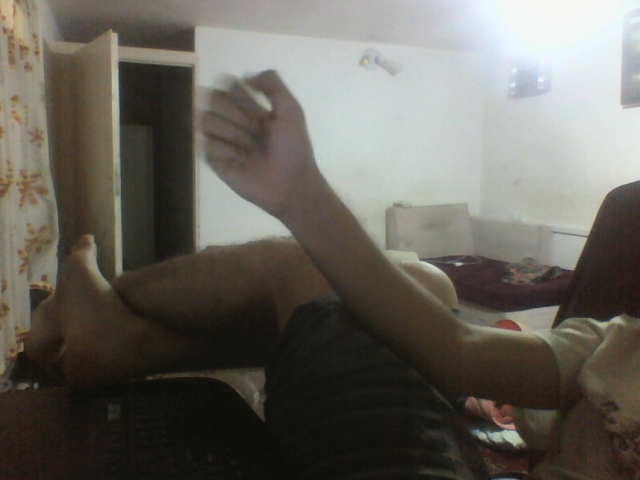attack: (197, 53, 316, 219)
